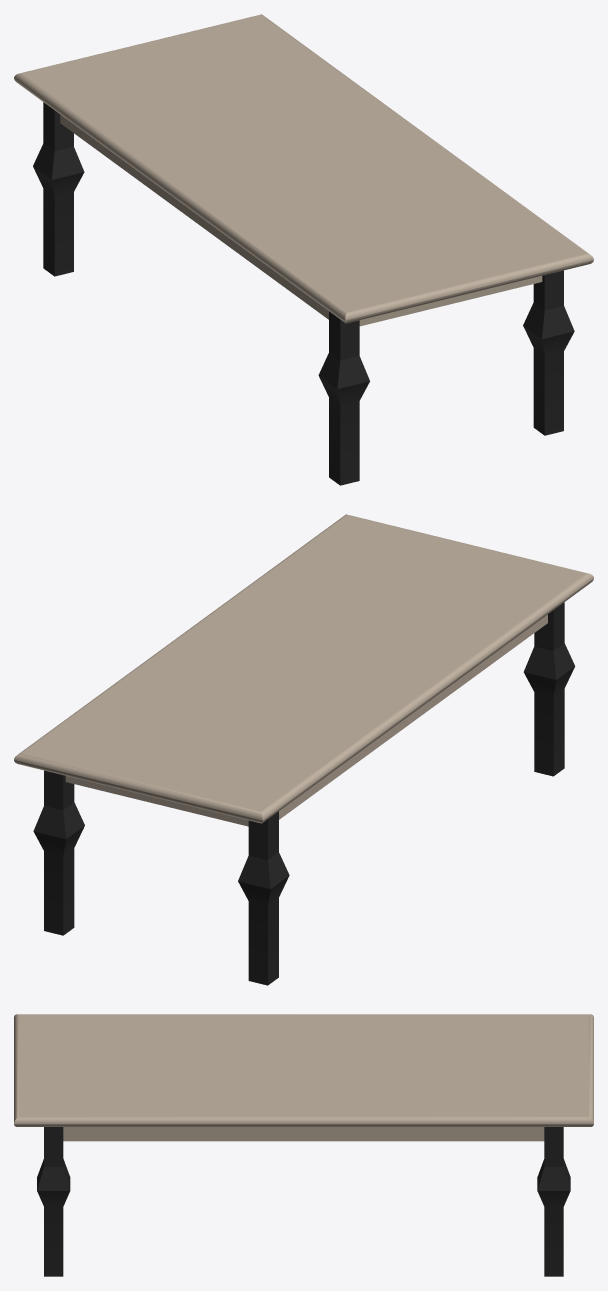
File: GrandeTable_57.fbx
3 renders of one model, top to bottom at view 1: azimuth 30°, elevation 25°; view 2: azimuth 150°, elevation 25°; view 3: azimuth 270°, elevation 25°, orthographic. The views are drawn at different scales.
Visible parts, largest first — view 1: pCube95, polySurface21, polySurface20, polySurface22; view 2: pCube95, polySurface22, polySurface23, polySurface21; view 3: pCube95, polySurface23, polySurface20.
Boxes of the visible parts, bbox=[...] form: pCube95: bbox=[14, 14, 593, 326]; polySurface21: bbox=[318, 311, 369, 485]; polySurface20: bbox=[523, 270, 574, 435]; polySurface22: bbox=[33, 102, 84, 276]; pCube95: bbox=[14, 514, 593, 826]; polySurface22: bbox=[238, 811, 289, 985]; polySurface23: bbox=[33, 770, 84, 935]; polySurface21: bbox=[523, 602, 575, 776]; pCube95: bbox=[14, 1014, 593, 1141]; polySurface23: bbox=[537, 1127, 570, 1276]; polySurface20: bbox=[37, 1127, 70, 1276].
Bounding box in the file's own units: 56.59 × 40.5 × 130.
